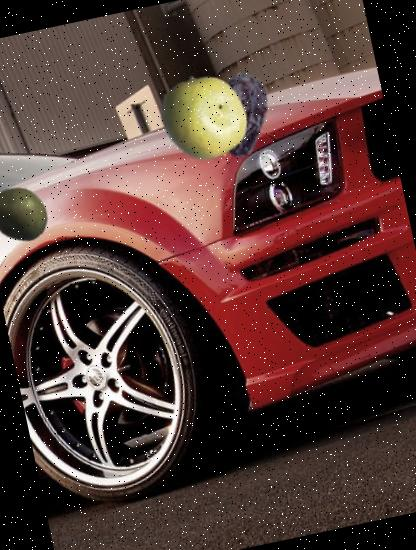Dates: (193, 64, 296, 166)
Pomelo: (152, 66, 256, 170), (0, 178, 54, 249)
